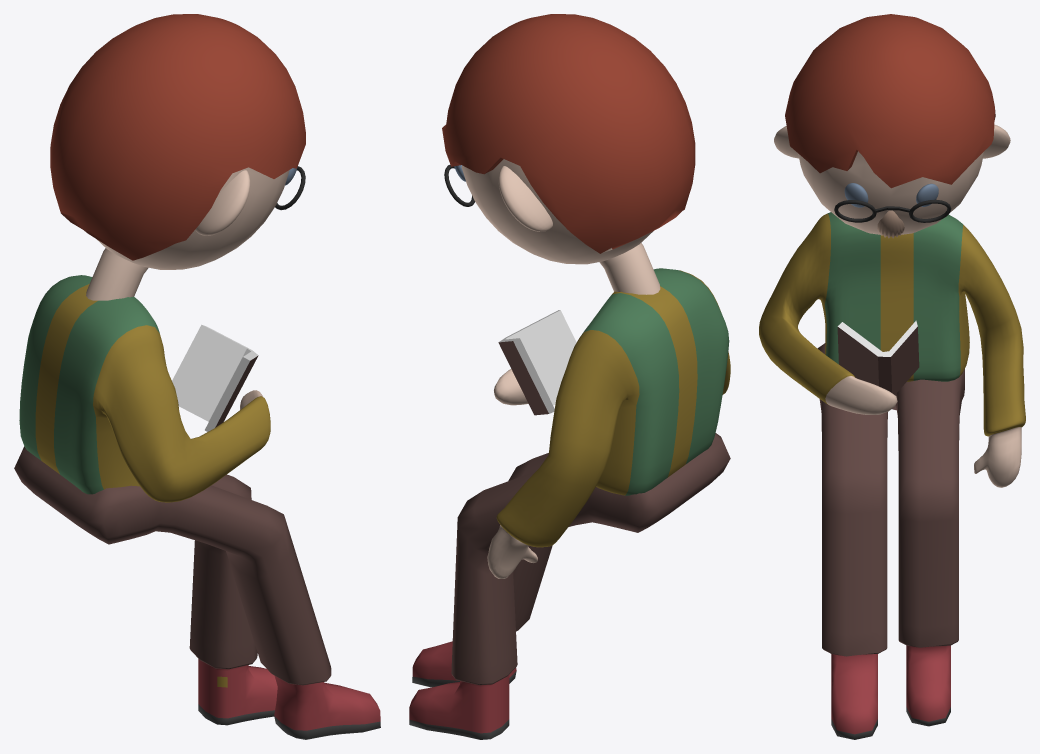
The model's file is sittingNPC_#2.fbx.
3 views of the same model, side by side, from view 1: azimuth 30°, elevation 25°; view 2: azimuth 150°, elevation 25°; view 3: azimuth 270°, elevation 25° (orthographic). The views are drawn at different scales.
Visible parts, largest first — view 1: polySurface37, polySurface19, polySurface17, pCube27; view 2: polySurface37, polySurface17, polySurface19, pCube27; view 3: polySurface19, polySurface17, polySurface37, pCube27.
Part boxes in pixels (bbox=[...]): polySurface37: bbox=[50, 14, 305, 300]; polySurface19: bbox=[14, 446, 380, 739]; polySurface17: bbox=[19, 275, 270, 502]; pCube27: bbox=[172, 324, 258, 431]; polySurface37: bbox=[442, 14, 695, 294]; polySurface17: bbox=[487, 268, 730, 578]; polySurface19: bbox=[409, 433, 730, 739]; pCube27: bbox=[498, 310, 576, 415]; polySurface19: bbox=[817, 343, 964, 739]; polySurface17: bbox=[759, 212, 1025, 487]; polySurface37: bbox=[774, 14, 1010, 238]; pCube27: bbox=[837, 320, 919, 394].
Size of the model in its own units: 5.31 by 11.91 by 4.47.
